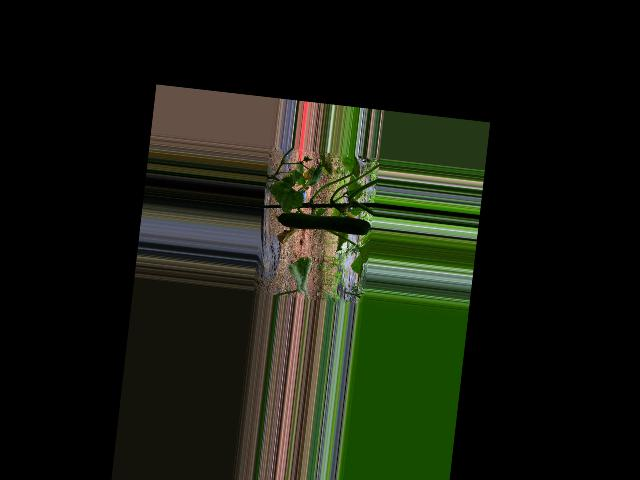cucumber: (273, 209, 371, 237)
